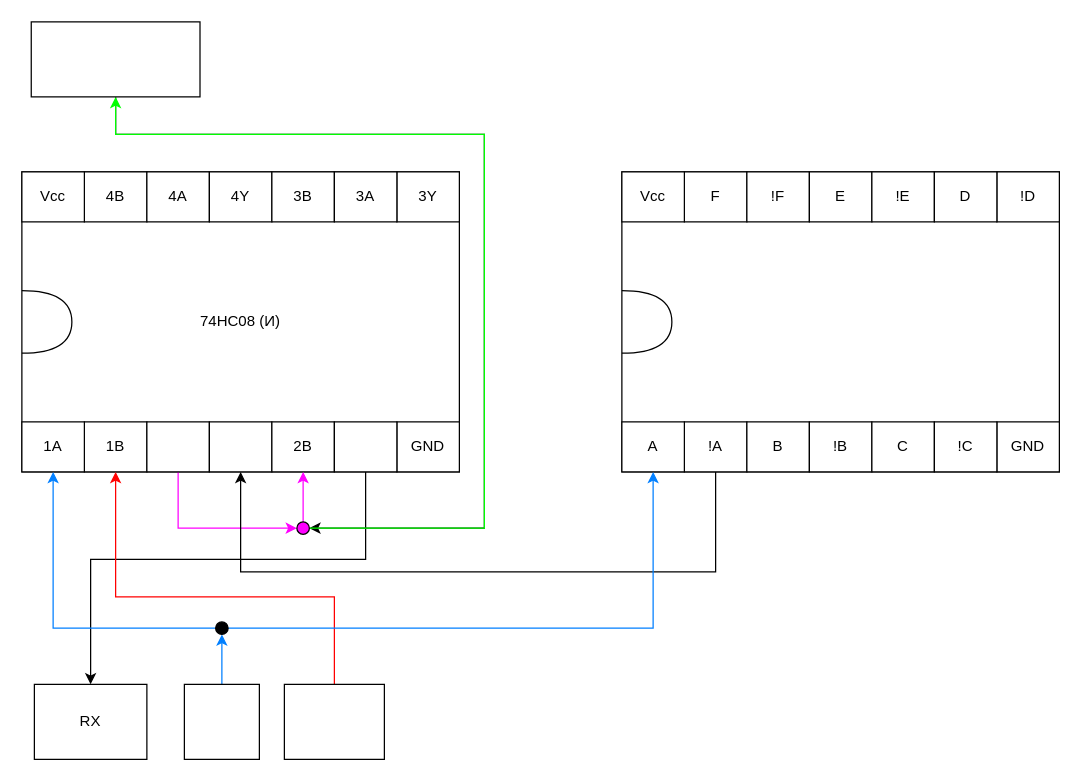
Image size: 1081x781. Some labels were removed from this diagram. The box of each missing label's shape, as (x1, y1, x2, y2) in pixels:
1Y: (146, 421, 209, 472)
2A: (208, 421, 272, 472)
2Y: (333, 421, 397, 472)
CD4069UBE(НЕ): (621, 171, 1059, 472)
Control PIN: (183, 683, 259, 759)
Data_Dynomixels: (30, 21, 200, 97)
TX: (283, 683, 384, 759)
